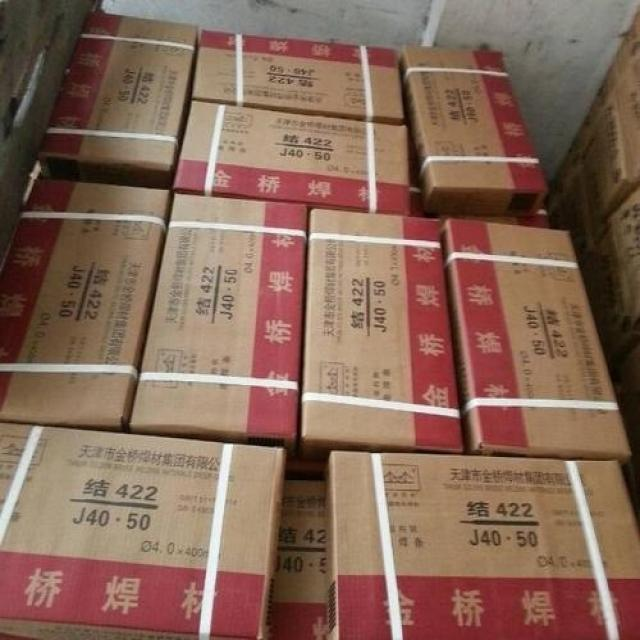box: (0, 420, 287, 640), (324, 453, 640, 640), (128, 194, 307, 462), (442, 221, 632, 469), (0, 178, 173, 435), (301, 210, 465, 462), (37, 11, 198, 188), (173, 99, 411, 216), (398, 46, 548, 217), (192, 28, 403, 125), (273, 481, 324, 640)
